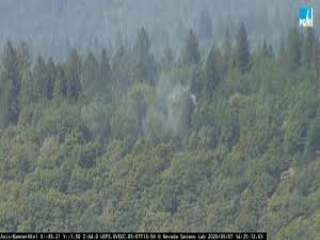smoke: (155, 73, 210, 147)
